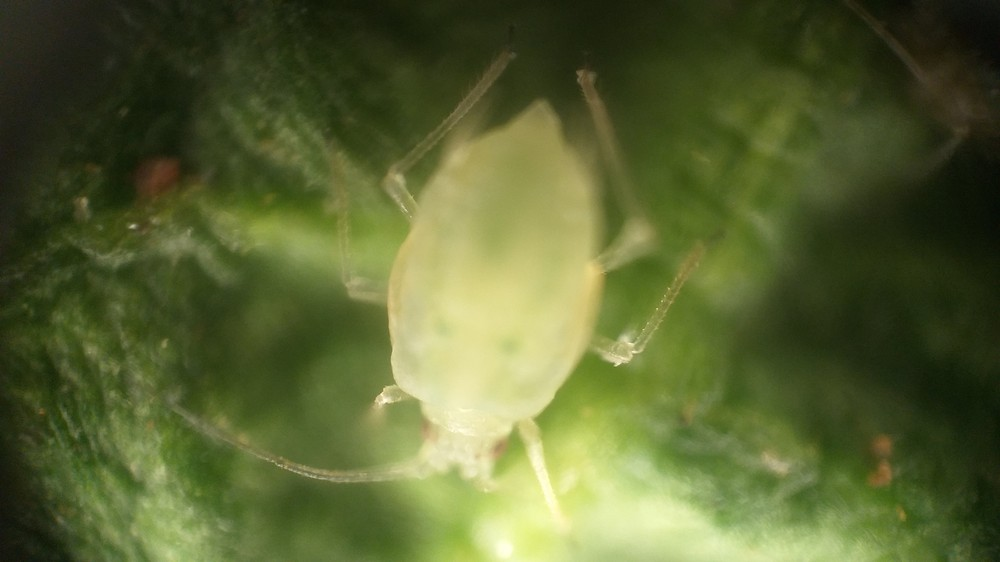Pulgon: (222, 37, 755, 556)
